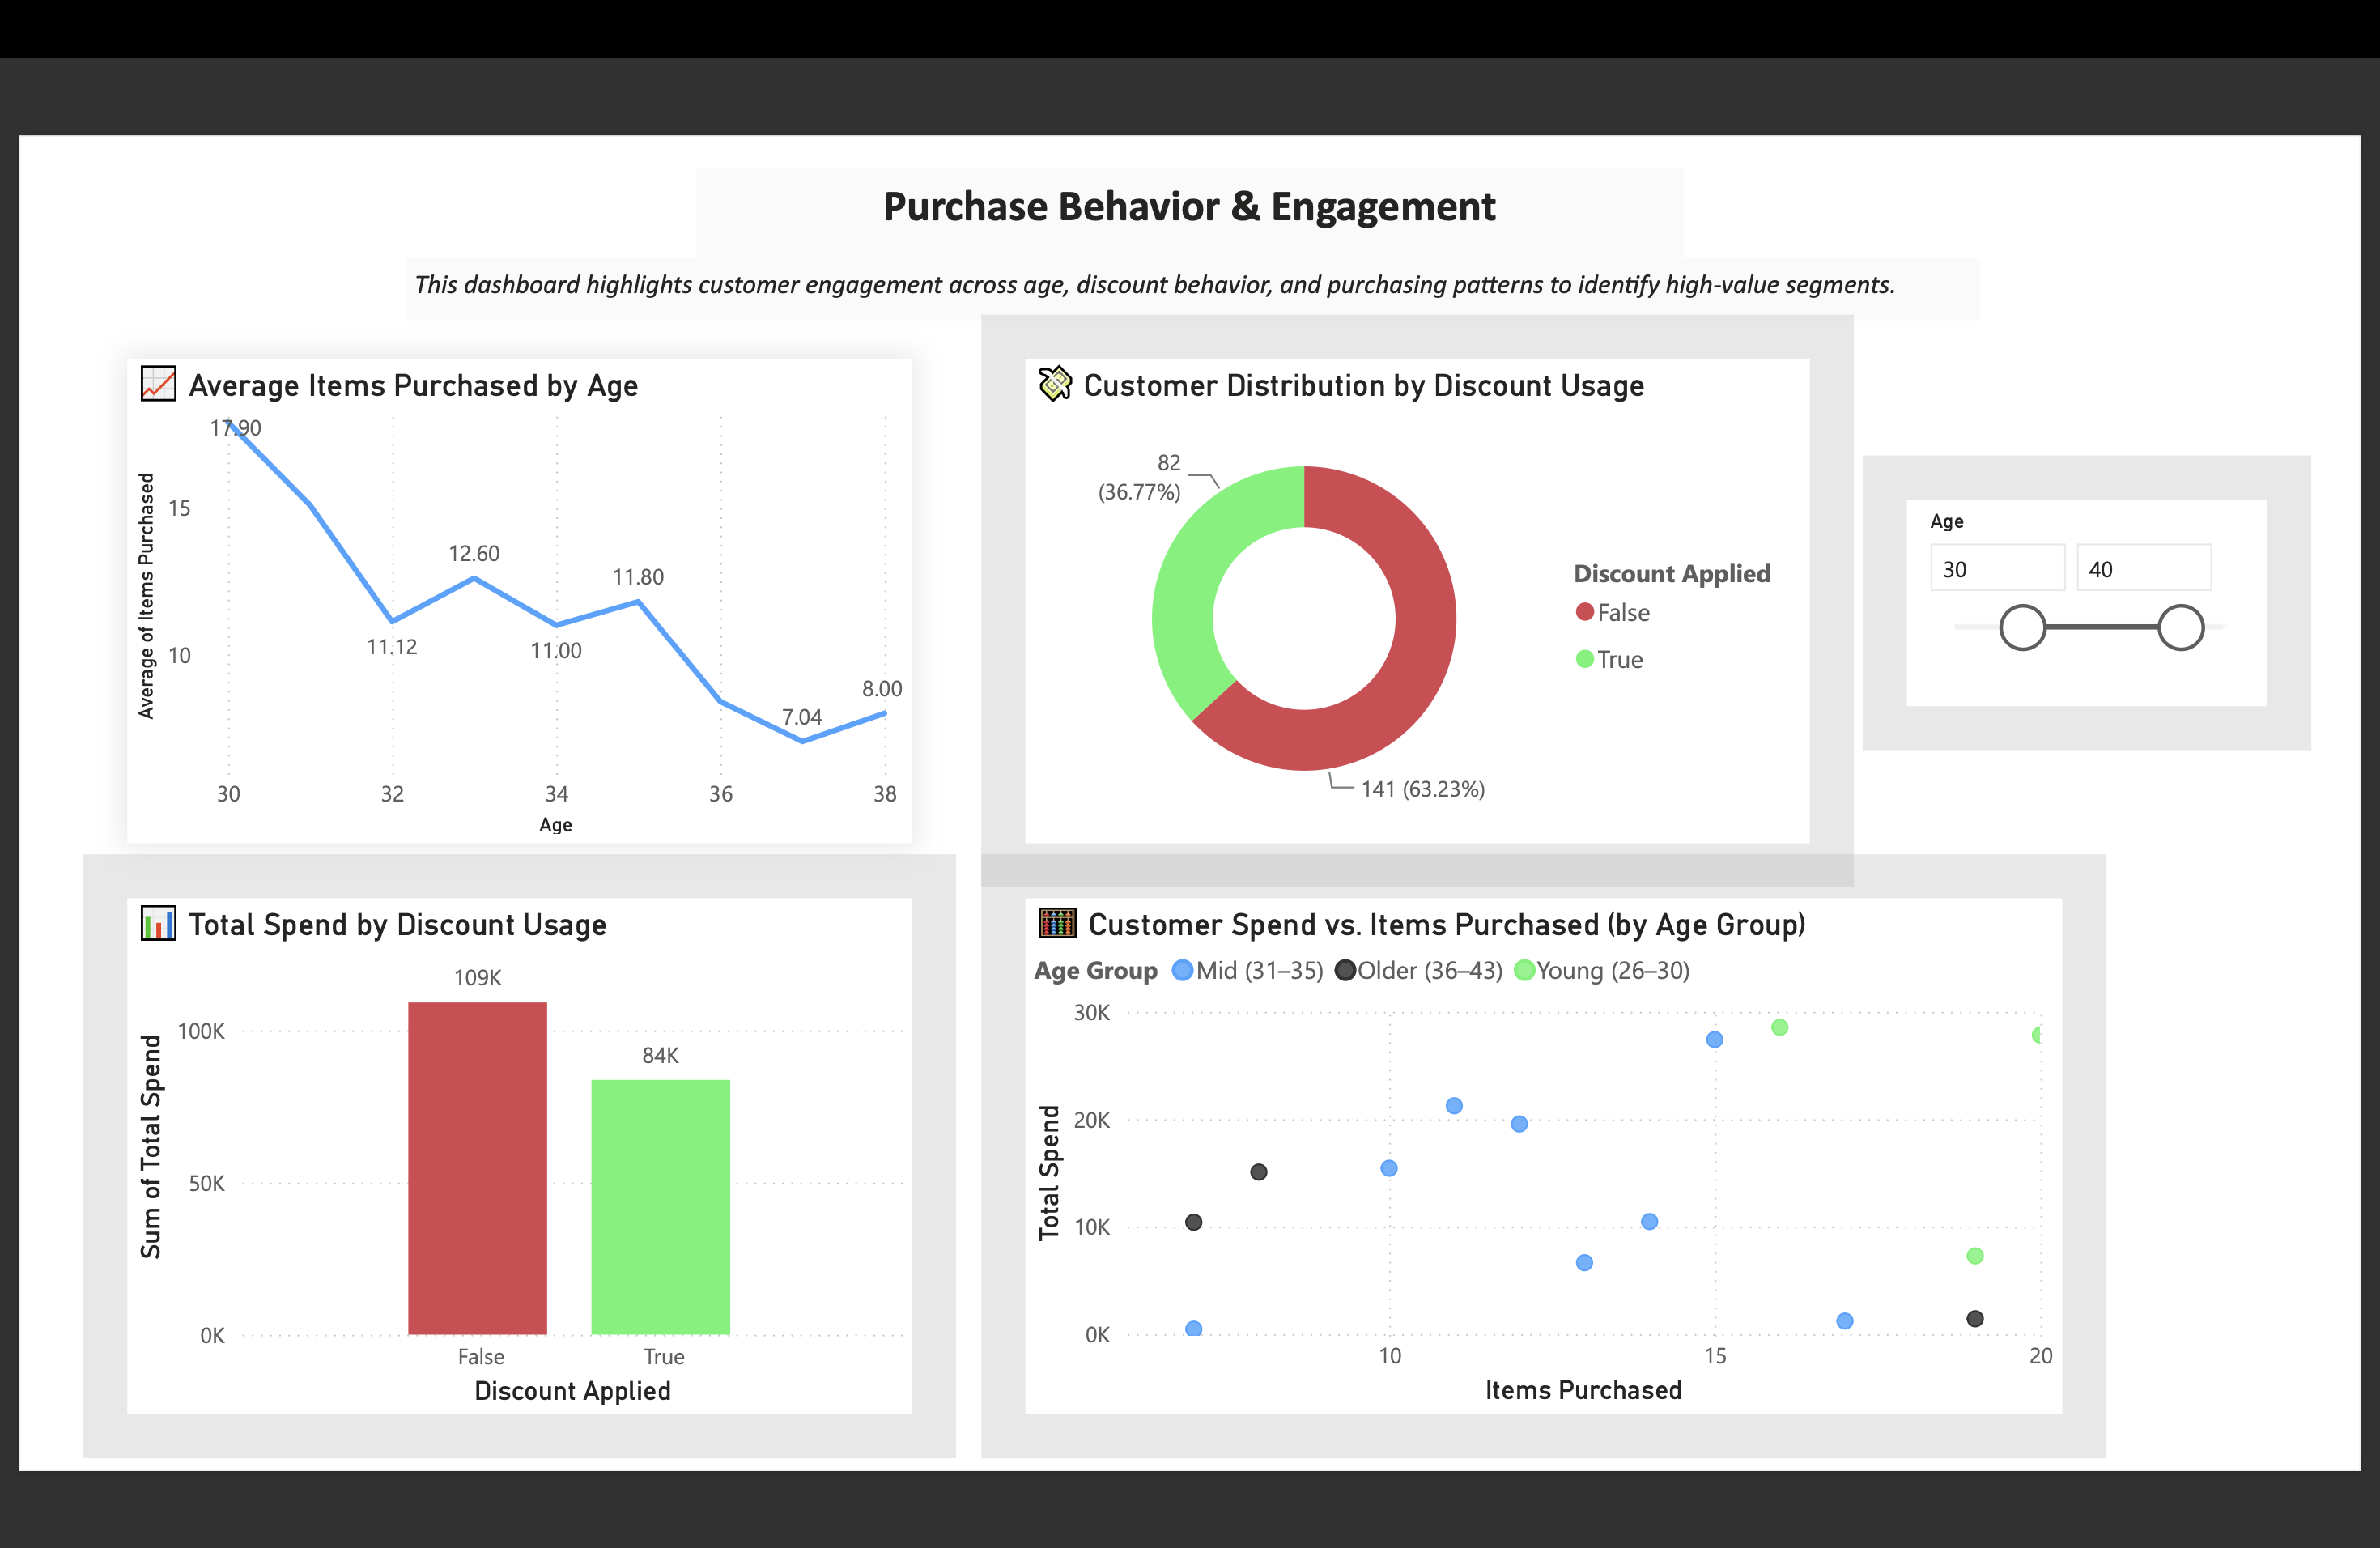

The dashboard page shown, as its layout file describes it:
{"tool":"powerbi","page":{"name":"Page 3","canvas":[1280,720],"ordinal":2},"visuals":[{"type":"textbox","box":[370.4,12.9,540.2,48.7],"z":0},{"type":"textbox","box":[210.5,61.6,860.9,33.8],"z":1000},{"type":"lineChart","title":"📈 Average Items Purchased by Age","fields":{"Category":["E-commerce Customer Behavior - Sheet1.Age"],"Y":["Avg(E-commerce Customer Behavior - Sheet1.Items Purchased)"]},"box":[58.6,117.2,429,265.1],"z":2000},{"type":"donutChart","title":"💸 Customer Distribution by Discount Usage","fields":{"Category":["E-commerce Customer Behavior - Sheet1.Discount Applied"],"Y":["CountNonNull(E-commerce Customer Behavior - Sheet1.Customer ID)"]},"box":[550.1,117.2,429,265.1],"z":3000},{"type":"clusteredColumnChart","title":"📊 Total Spend by Discount Usage","fields":{"Category":["E-commerce Customer Behavior - Sheet1.Discount Applied"],"Y":["Sum(E-commerce Customer Behavior - Sheet1.Total Spend)"]},"box":[58.6,412.1,429,282],"z":4000},{"type":"scatterChart","title":"🧮 Customer Spend vs. Items Purchased (by Age Group)","fields":{"X":["E-commerce Customer Behavior - Sheet1.Items Purchased"],"Y":["Sum(E-commerce Customer Behavior - Sheet1.Total Spend)"],"Series":["E-commerce Customer Behavior - Sheet1.Age Group"]},"box":[550.1,412.1,567,282],"z":5000},{"type":"slicer","fields":{"Values":["E-commerce Customer Behavior - Sheet1.Age"]},"box":[1031.7,193.6,196.6,113.2],"z":6000}]}

Visuals, with their boxes on the page's 1280x720 design canvas (x1, y1, x2, y2). These are canvas units, not pixel positions in the 2380x1548 screenshot, which may show the page scaled, cropped or inside an application window:
textbox: bbox(370, 13, 911, 62)
textbox: bbox(210, 62, 1071, 95)
"📈 Average Items Purchased by Age" lineChart: bbox(59, 117, 488, 382)
"💸 Customer Distribution by Discount Usage" donutChart: bbox(550, 117, 979, 382)
"📊 Total Spend by Discount Usage" clusteredColumnChart: bbox(59, 412, 488, 694)
"🧮 Customer Spend vs. Items Purchased (by Age Group)" scatterChart: bbox(550, 412, 1117, 694)
slicer - E-commerce Customer Behavior - Sheet1.Age: bbox(1032, 194, 1228, 307)
